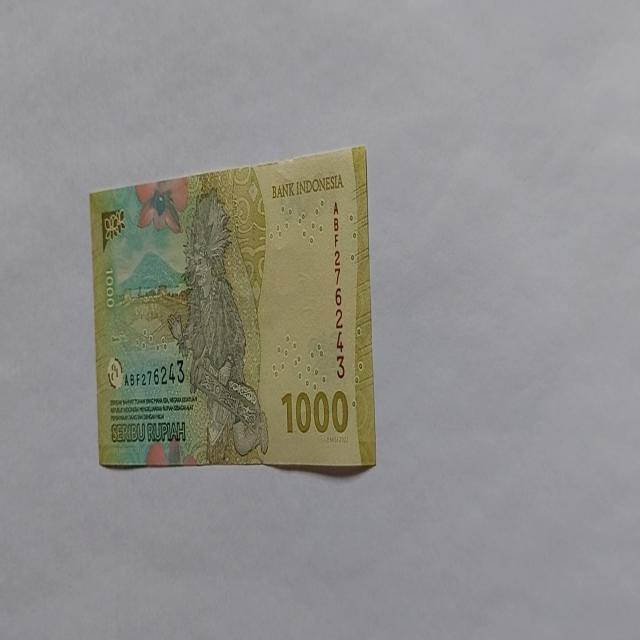seribu rupiah kertas: (88, 144, 376, 470), (168, 186, 268, 464)
